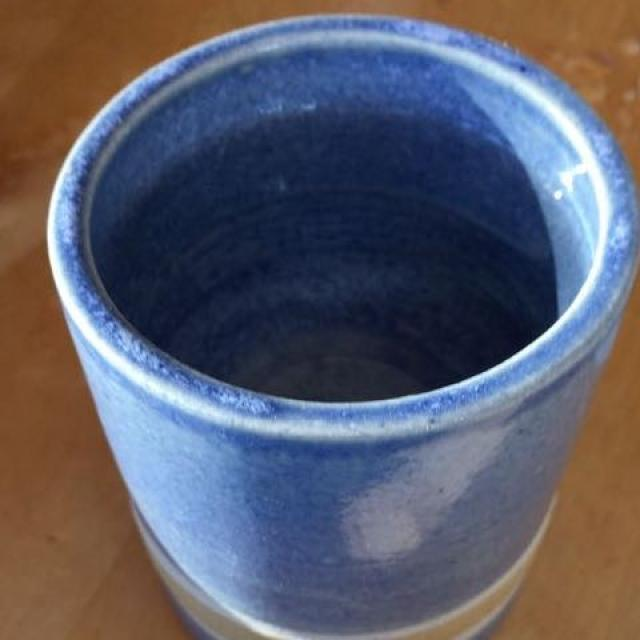water: (109, 134, 569, 399)
